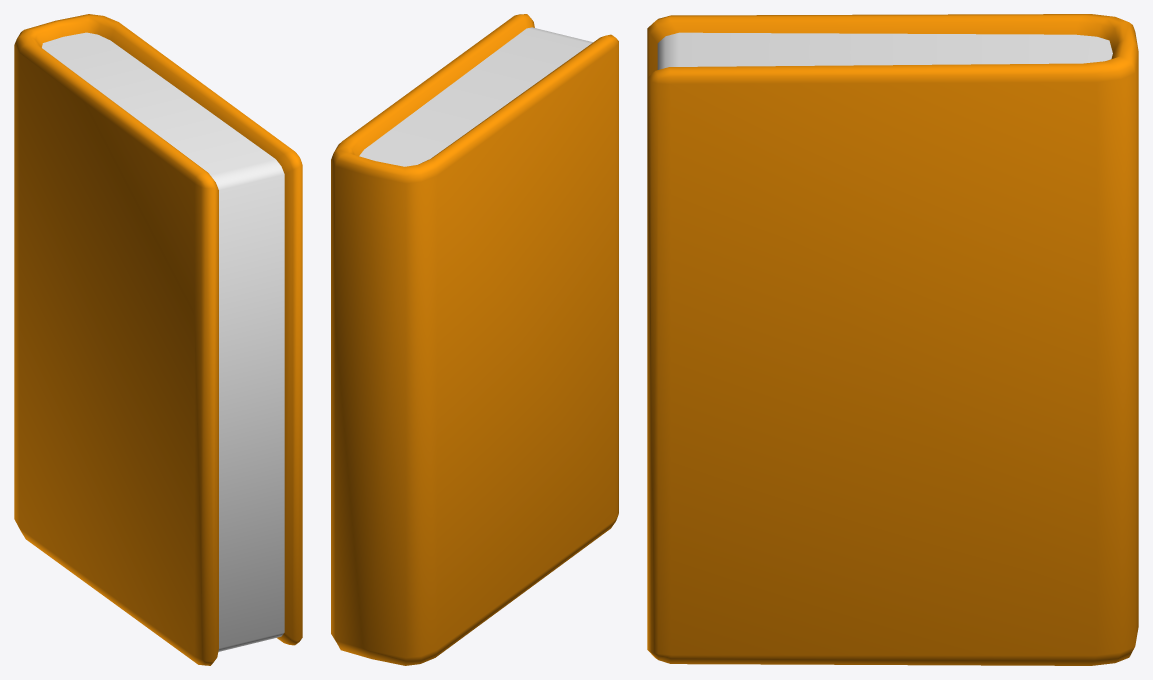
The model's file is Book03.fbx.
The picture shows the model from 3 angles, left to right: view 1: azimuth 30°, elevation 25°; view 2: azimuth 150°, elevation 25°; view 3: azimuth 270°, elevation 25°; orthographic projection. The views are drawn at different scales.
Visible parts, largest first — view 1: Book03; view 2: Book03; view 3: Book03.
Part boxes in pixels (x1,y1,x2,y2): Book03: (14, 14, 302, 665); Book03: (331, 14, 618, 665); Book03: (647, 14, 1138, 665).
Bounding box in the file's own units: 0.0443 × 0.1506 × 0.2031.
